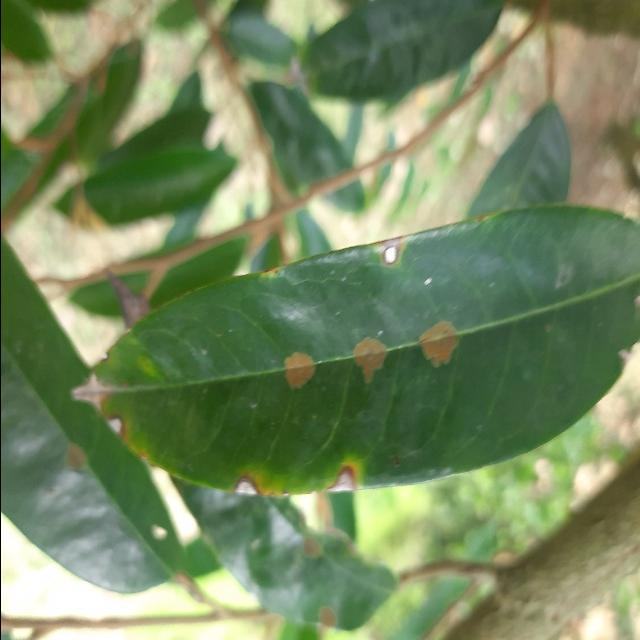Algal Leaf Spot: (57, 201, 640, 502)
